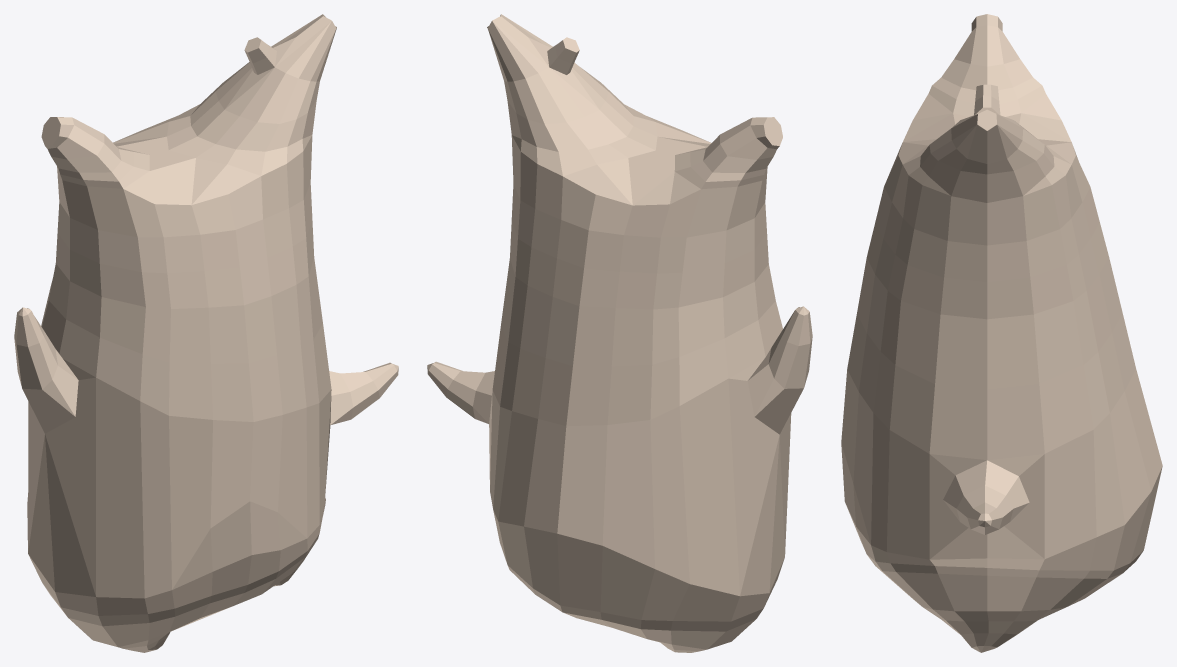
Rendered from frame_0101.obj.
3 views of the same model, side by side, from view 1: azimuth 30°, elevation 25°; view 2: azimuth 150°, elevation 25°; view 3: azimuth 270°, elevation 25° (orthographic).
Parts seen in each view (by area): view 1: korok; view 2: korok; view 3: korok.
Boxes of the visible parts, x1,y1,x2,y2 form: korok: (14,14,398,652); korok: (427,14,812,652); korok: (841,14,1162,652).
Size of the model in its own units: 1.5 by 2.2 by 1.07.
